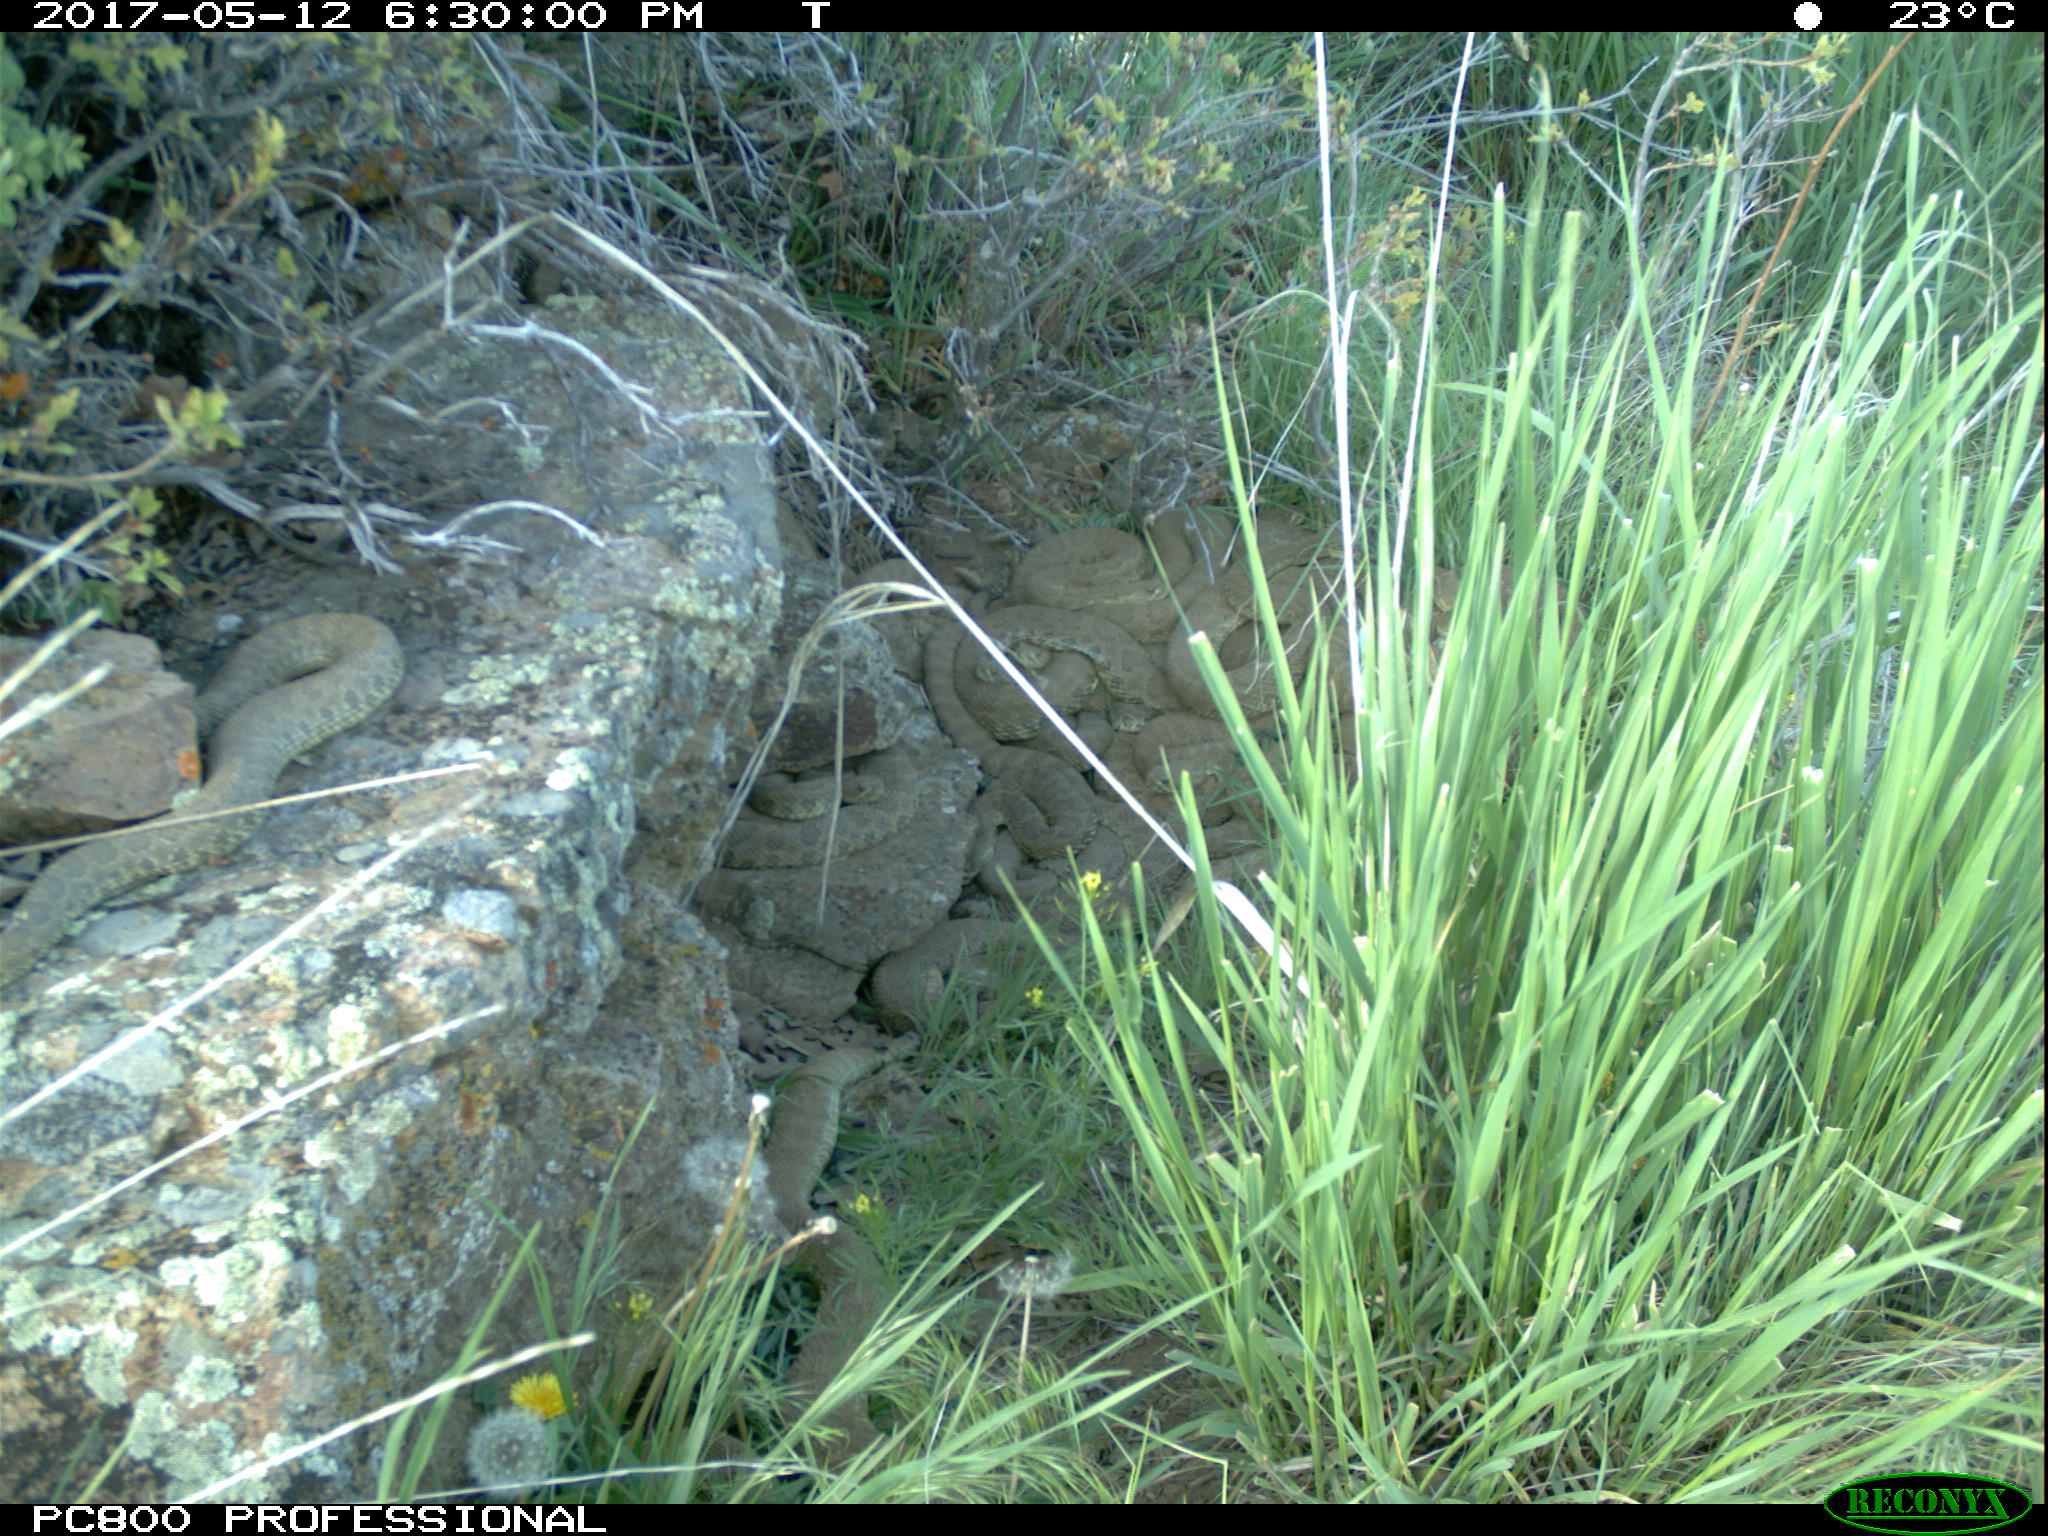snake: (2, 603, 402, 983), (763, 1033, 906, 1480), (871, 553, 1130, 728), (1155, 502, 1338, 733), (947, 691, 1106, 900), (1101, 708, 1264, 874), (1024, 524, 1209, 649), (726, 755, 932, 865), (864, 915, 1048, 1021), (1350, 552, 1474, 682)
